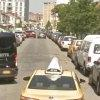Car: (27, 59, 87, 100)
